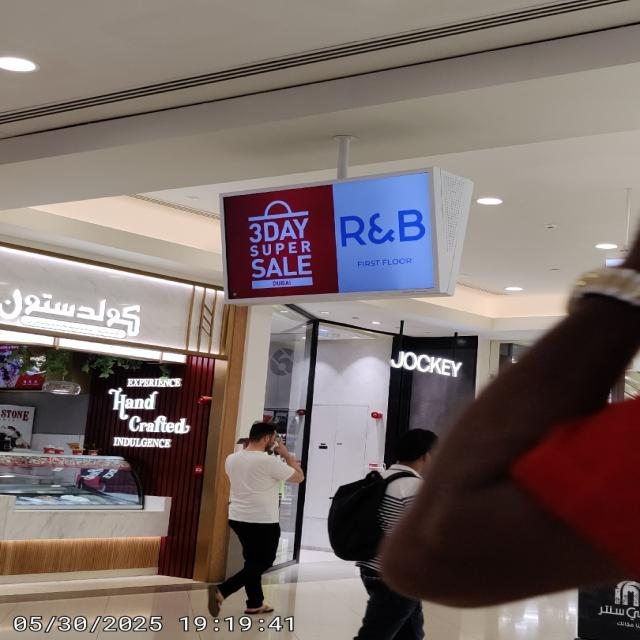digital-board: (222, 173, 439, 305)
